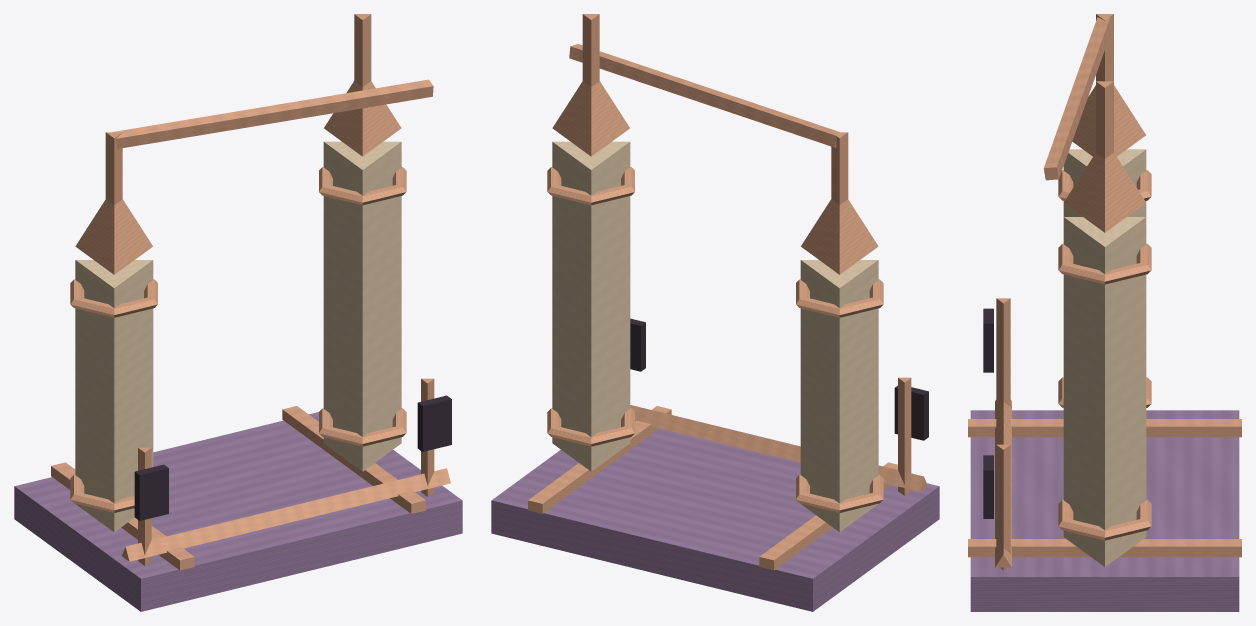
Rendered from atlas100-s082-a01.lod2.glb.
3 renders of one model, left to right at view 1: azimuth 30°, elevation 25°; view 2: azimuth 150°, elevation 25°; view 3: azimuth 270°, elevation 25°, orthographic. The views are drawn at different scales.
Visible parts, largest first — view 1: atlas100-s082-a01:part-000, atlas100-s082-a01:part-010, atlas100-s082-a01:part-003, atlas100-s082-a01:part-009, atlas100-s082-a01:part-021, atlas100-s082-a01:part-007, atlas100-s082-a01:part-014, atlas100-s082-a01:part-002, atlas100-s082-a01:part-018, atlas100-s082-a01:part-020, atlas100-s082-a01:part-005, atlas100-s082-a01:part-011 (+7 smaller); view 2: atlas100-s082-a01:part-000, atlas100-s082-a01:part-010, atlas100-s082-a01:part-003, atlas100-s082-a01:part-009, atlas100-s082-a01:part-021, atlas100-s082-a01:part-014, atlas100-s082-a01:part-007, atlas100-s082-a01:part-002, atlas100-s082-a01:part-001, atlas100-s082-a01:part-005, atlas100-s082-a01:part-011, atlas100-s082-a01:part-004 (+6 smaller); view 3: atlas100-s082-a01:part-000, atlas100-s082-a01:part-010, atlas100-s082-a01:part-002, atlas100-s082-a01:part-014, atlas100-s082-a01:part-001, atlas100-s082-a01:part-009, atlas100-s082-a01:part-007, atlas100-s082-a01:part-012, atlas100-s082-a01:part-011, atlas100-s082-a01:part-003, atlas100-s082-a01:part-019, atlas100-s082-a01:part-017 (+6 smaller).
Part boxes in pixels (bbox=[...]): atlas100-s082-a01:part-000: bbox=[14, 412, 462, 611]; atlas100-s082-a01:part-010: bbox=[323, 141, 401, 471]; atlas100-s082-a01:part-003: bbox=[75, 260, 153, 532]; atlas100-s082-a01:part-009: bbox=[112, 79, 433, 148]; atlas100-s082-a01:part-021: bbox=[122, 468, 450, 561]; atlas100-s082-a01:part-007: bbox=[75, 199, 152, 274]; atlas100-s082-a01:part-014: bbox=[324, 81, 401, 156]; atlas100-s082-a01:part-002: bbox=[282, 406, 425, 513]; atlas100-s082-a01:part-018: bbox=[134, 464, 168, 520]; atlas100-s082-a01:part-020: bbox=[417, 395, 451, 451]; atlas100-s082-a01:part-005: bbox=[70, 279, 157, 317]; atlas100-s082-a01:part-011: bbox=[319, 408, 406, 446]; atlas100-s082-a01:part-000: bbox=[491, 428, 939, 611]; atlas100-s082-a01:part-010: bbox=[552, 141, 630, 471]; atlas100-s082-a01:part-003: bbox=[800, 260, 878, 532]; atlas100-s082-a01:part-009: bbox=[569, 44, 839, 147]; atlas100-s082-a01:part-021: bbox=[630, 405, 927, 491]; atlas100-s082-a01:part-014: bbox=[552, 81, 629, 156]; atlas100-s082-a01:part-007: bbox=[801, 199, 878, 274]; atlas100-s082-a01:part-002: bbox=[528, 406, 671, 513]; atlas100-s082-a01:part-001: bbox=[759, 462, 897, 570]; atlas100-s082-a01:part-005: bbox=[796, 279, 883, 317]; atlas100-s082-a01:part-011: bbox=[547, 408, 634, 446]; atlas100-s082-a01:part-004: bbox=[796, 474, 883, 512]; atlas100-s082-a01:part-000: bbox=[970, 410, 1239, 611]; atlas100-s082-a01:part-010: bbox=[1063, 217, 1146, 566]; atlas100-s082-a01:part-002: bbox=[968, 539, 1241, 557]; atlas100-s082-a01:part-014: bbox=[1063, 153, 1146, 232]; atlas100-s082-a01:part-001: bbox=[968, 419, 1241, 437]; atlas100-s082-a01:part-009: bbox=[1043, 16, 1112, 180]; atlas100-s082-a01:part-007: bbox=[1072, 85, 1145, 156]; atlas100-s082-a01:part-012: bbox=[1058, 243, 1151, 284]; atlas100-s082-a01:part-011: bbox=[1058, 499, 1151, 540]; atlas100-s082-a01:part-003: bbox=[1063, 149, 1146, 216]; atlas100-s082-a01:part-019: bbox=[996, 444, 1010, 569]; atlas100-s082-a01:part-017: bbox=[996, 298, 1010, 406].
Size of the model in its own units: 2.76 by 3.77 by 1.84.
Materials: 4 (4 with a texture image).
